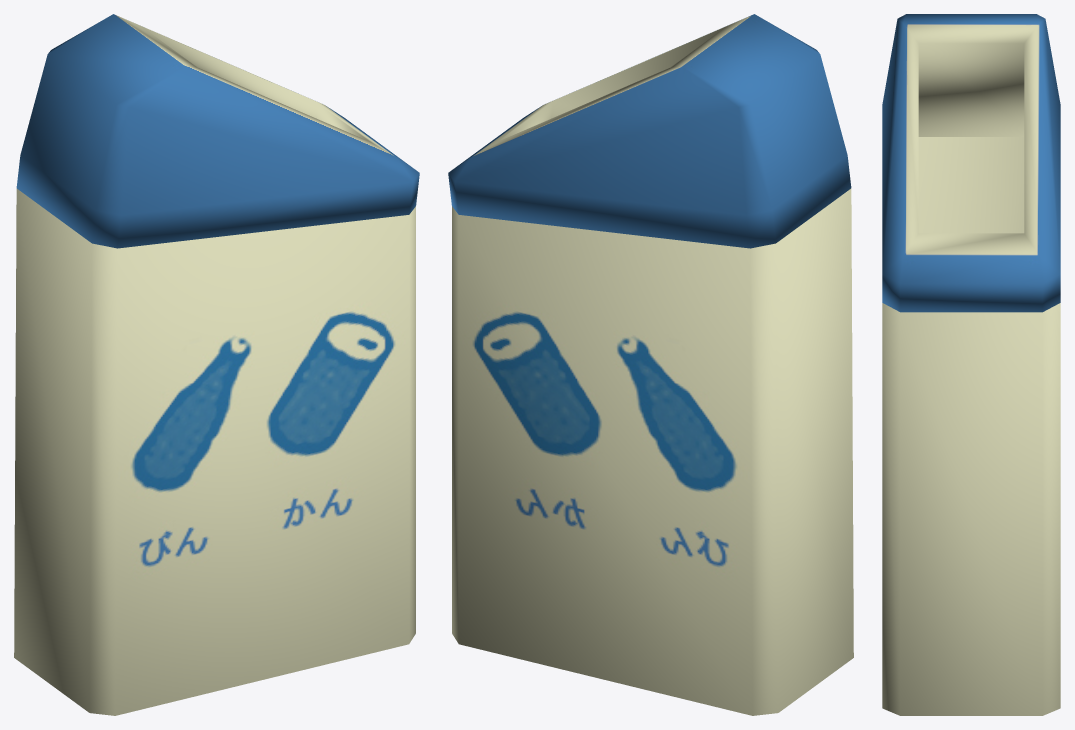
Rendered from trashbox_c03.fbx.
3 views of the same model, side by side, from view 1: azimuth 30°, elevation 25°; view 2: azimuth 150°, elevation 25°; view 3: azimuth 270°, elevation 25° (orthographic). The views are drawn at different scales.
Parts seen in each view (by area): view 1: trashbox_c03, trashbox_c03_lid; view 2: trashbox_c03, trashbox_c03_lid; view 3: trashbox_c03, trashbox_c03_lid.
Boxes of the visible parts, x1,y1,x2,y2 form: trashbox_c03: (14, 188, 415, 715); trashbox_c03_lid: (16, 14, 419, 248); trashbox_c03: (452, 188, 853, 715); trashbox_c03_lid: (448, 14, 851, 248); trashbox_c03: (882, 137, 1060, 715); trashbox_c03_lid: (882, 14, 1060, 312).
Bounding box in the file's own units: 40.46 × 72.72 × 20.
Materials: 1 (1 with a texture image).
